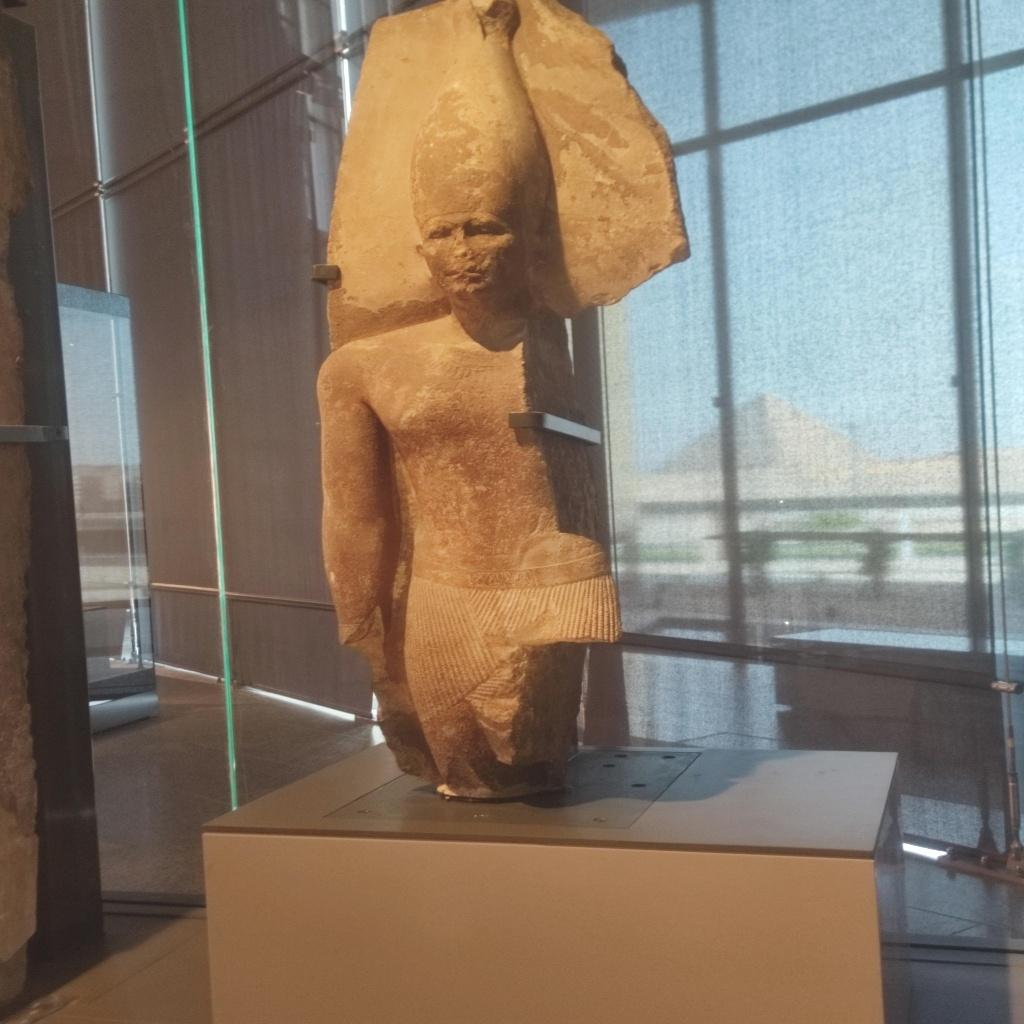Statue of Snefru: (309, 1, 694, 804)
